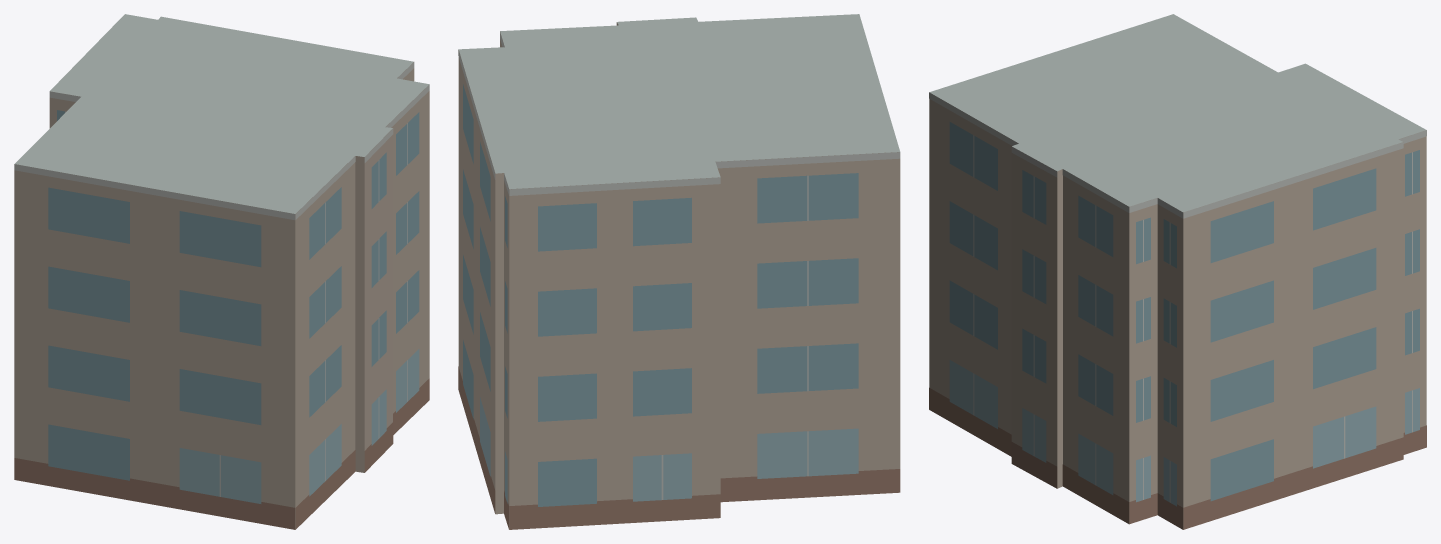
Rendered from survey-upis-32641349.glb.
3 views of the same model, side by side, from view 1: azimuth 30°, elevation 25°; view 2: azimuth 150°, elevation 25°; view 3: azimuth 270°, elevation 25° (orthographic). The views are drawn at different scales.
Parts seen in each view (by area): view 1: survey-upis-32641349.tmp; view 2: survey-upis-32641349.tmp; view 3: survey-upis-32641349.tmp.
Boxes of the visible parts, x1,y1,x2,y2 form: survey-upis-32641349.tmp: (14,14,429,529); survey-upis-32641349.tmp: (458,14,900,529); survey-upis-32641349.tmp: (929,14,1426,529).
Size of the model in its own units: 16.42 by 12.24 by 17.4.
